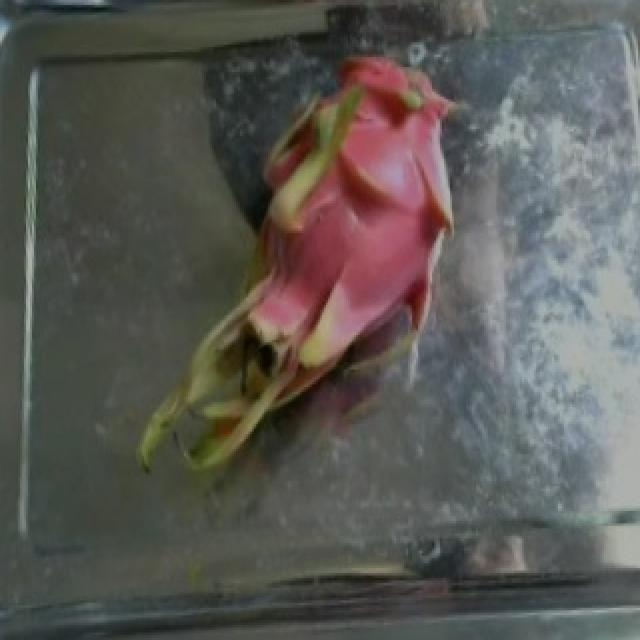fruit: (100, 70, 480, 508)
